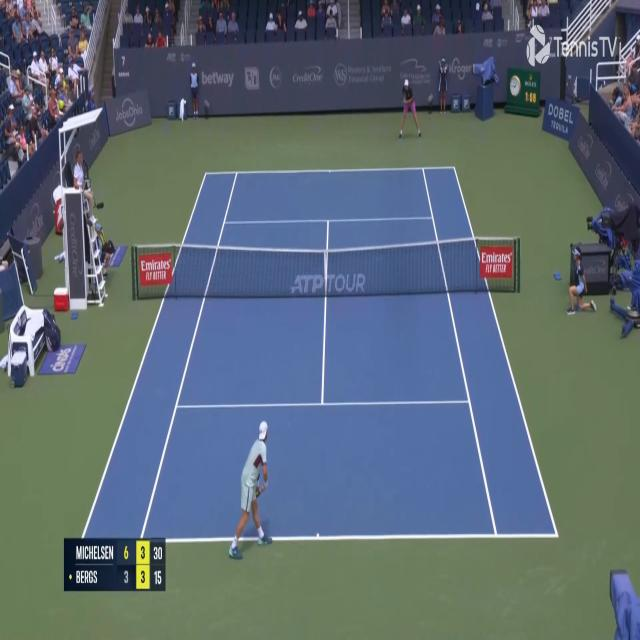tennis-player: (227, 416, 274, 564), (397, 77, 422, 142)
